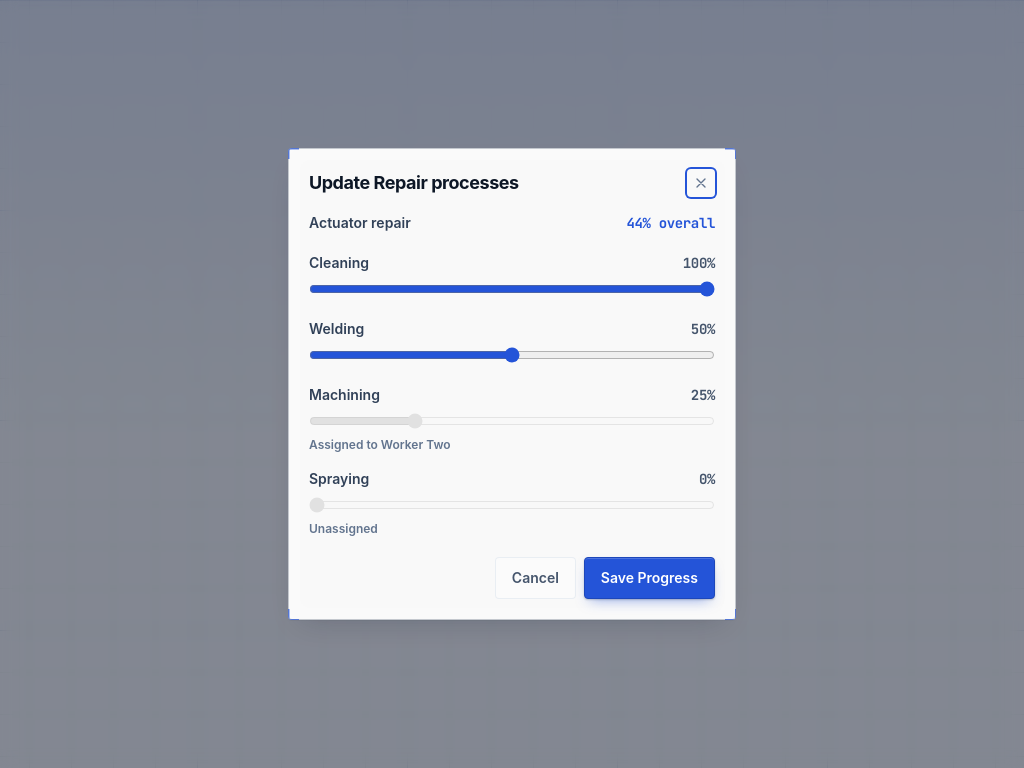
Test: section progress dialog › keeps the dialog open and reports a failed write
This screenshot has width=1024, height=768.
Click the button "Save Progress" at (649, 578), box x1=584 y1=557 x2=715 y2=599
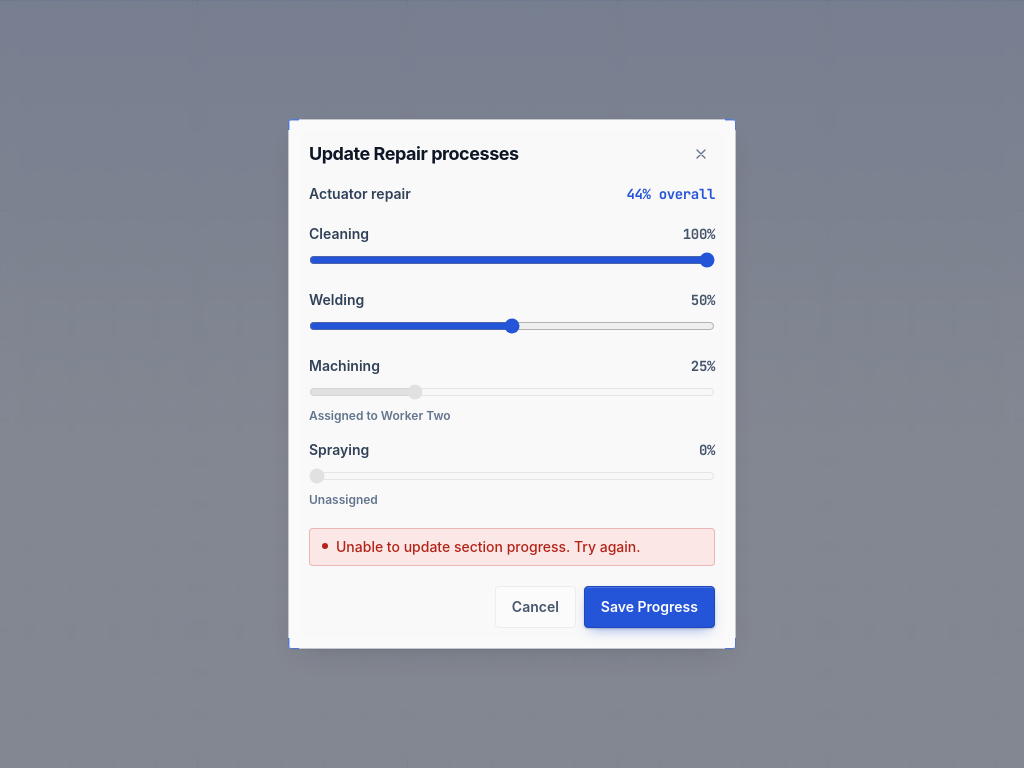
Expected: the dialog is shown, x1=288 y1=119 x2=736 y2=649
Expected: the message reads "Unable to update section progress. Try again.", x1=336 y1=538 x2=640 y2=555
